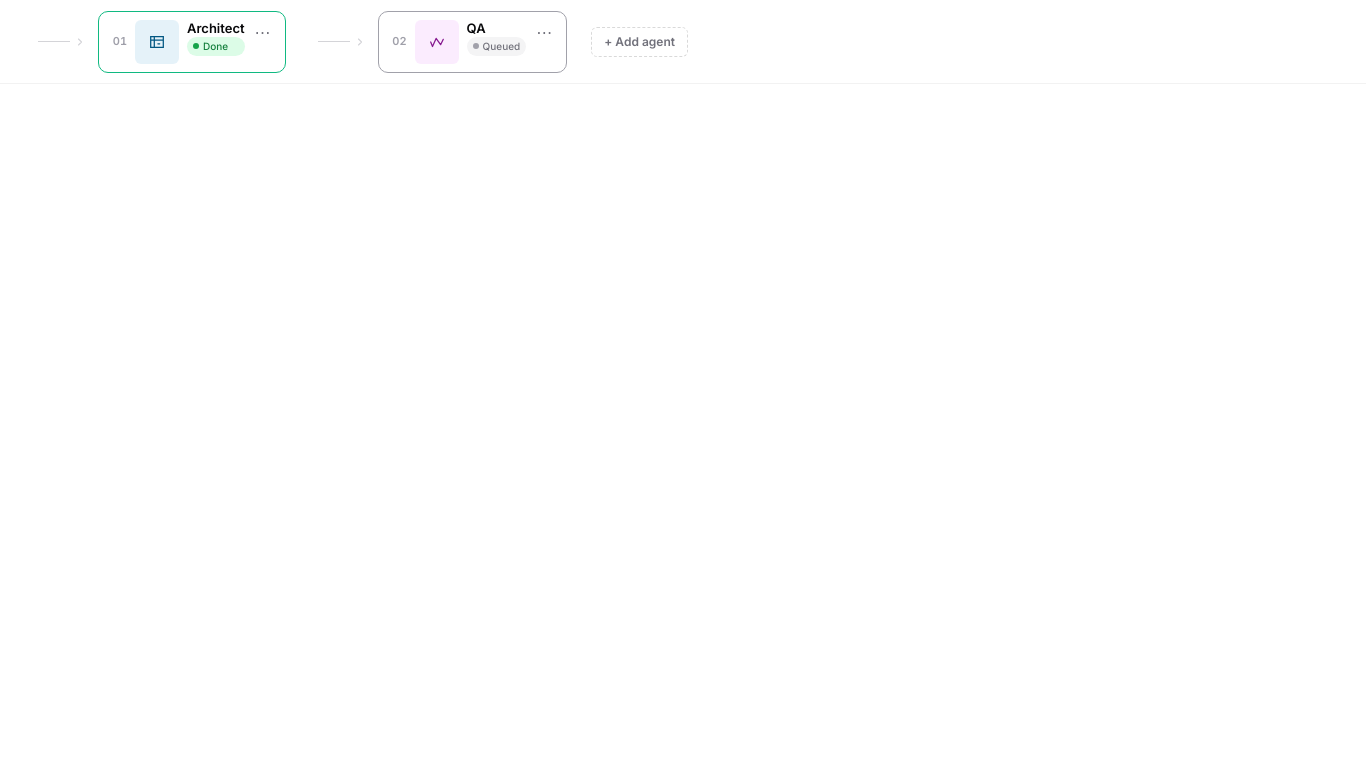
Scenario: PipelineBar › insert chips › click pipeline-add-agent opens AgentPicker for 2-agent pipeline
The image size is (1366, 768).
Click the button with test id "pipeline-add-agent": click(640, 42) [591,26,688,56]
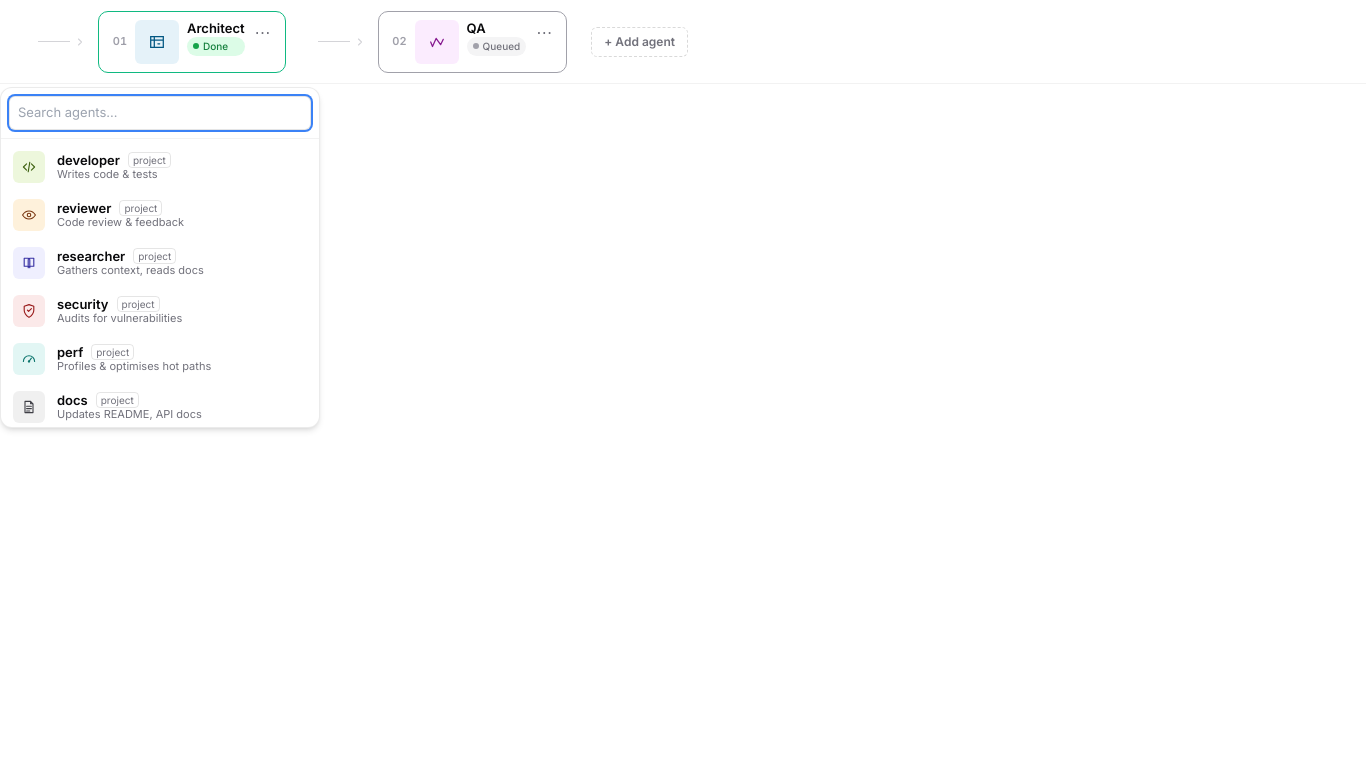
Check: the dialog with test id "agent-picker" is shown, box [0,87,320,428]
